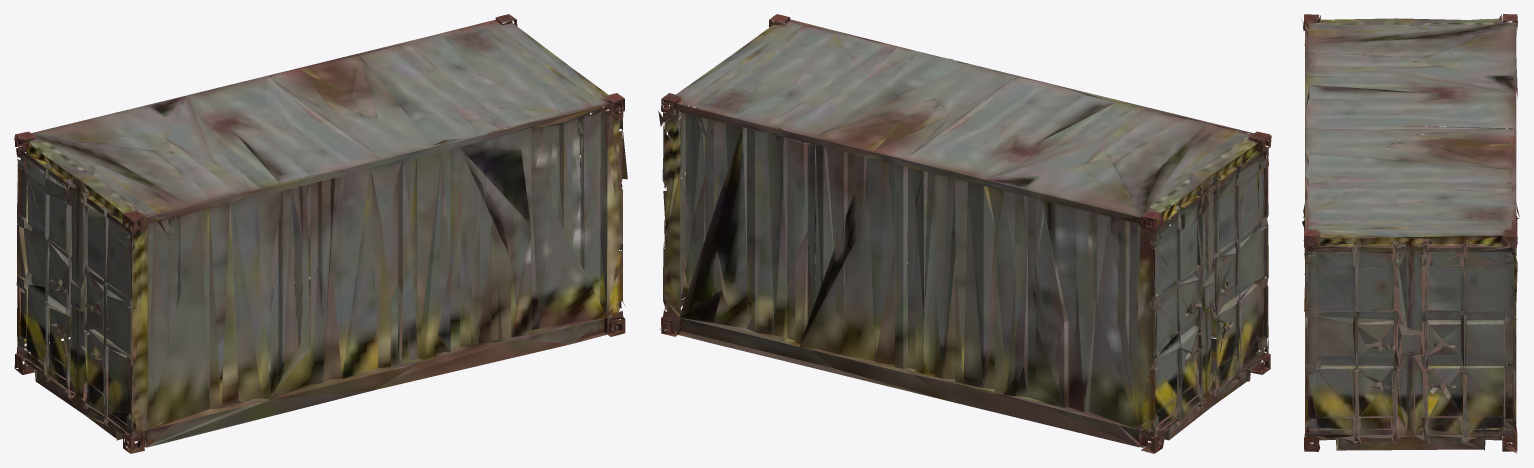
File: container_grey.glb
The picture shows the model from 3 angles, left to right: view 1: azimuth 30°, elevation 25°; view 2: azimuth 150°, elevation 25°; view 3: azimuth 270°, elevation 25°; orthographic projection. The views are drawn at different scales.
Parts seen in each view (by area): view 1: Mesh_0; view 2: Mesh_0; view 3: Mesh_0.
Part boxes in pixels (box(x1,y1,x2,y2)): Mesh_0: box(14, 14, 627, 453); Mesh_0: box(658, 14, 1271, 453); Mesh_0: box(1302, 14, 1519, 453).
Size of the model in its own units: 1.92 by 0.8592 by 0.7899.
1 material, 1 textured.
